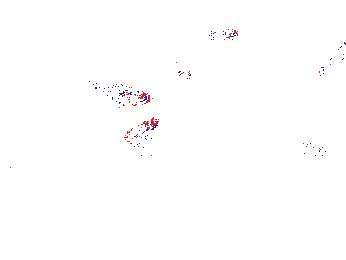X-ray fish: (231, 187, 263, 215), (291, 136, 328, 159)
red belly glassfish: (90, 81, 151, 106), (214, 25, 239, 43), (167, 68, 193, 81)
redtail glassfish: (311, 36, 346, 78), (126, 112, 161, 147)
